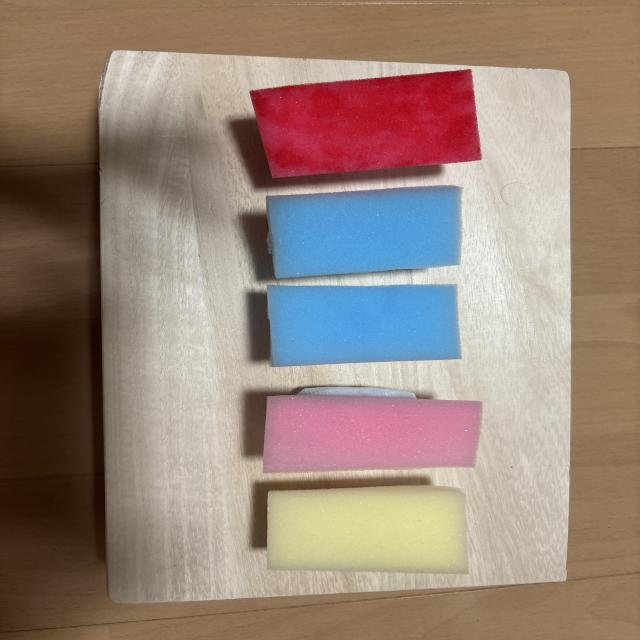ika: (267, 186, 462, 278), (268, 285, 461, 366)
maguro: (250, 70, 481, 177)
tai: (263, 387, 482, 472)
tamago: (267, 486, 468, 573)
